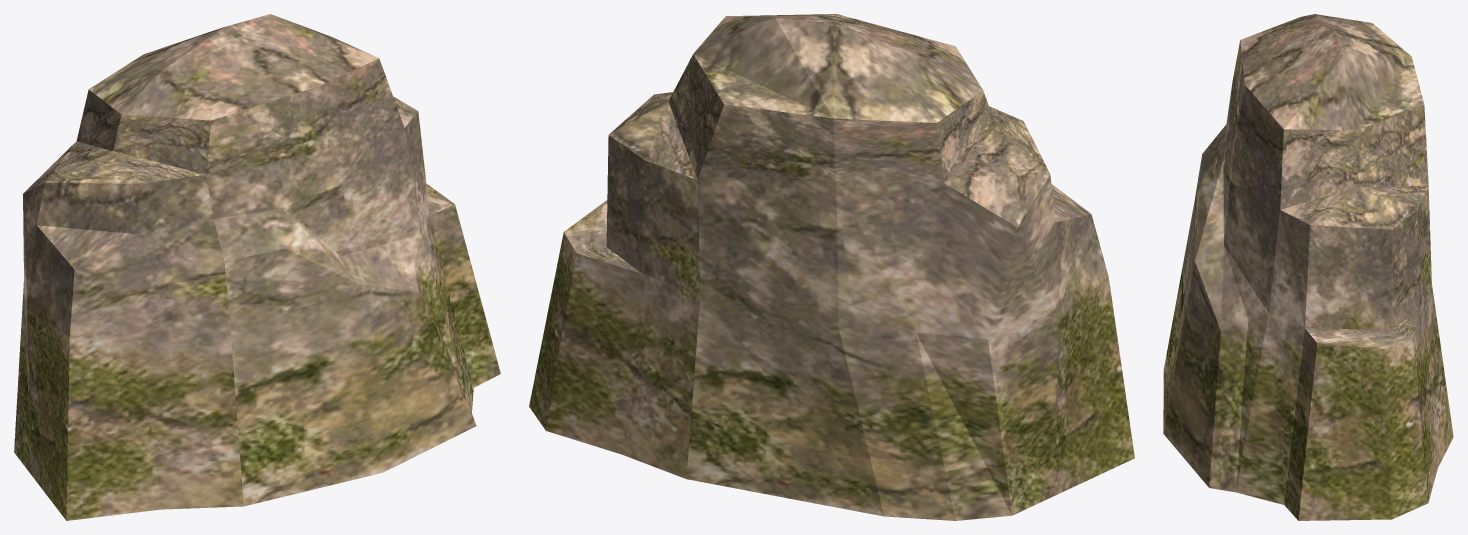
Rendered from town_mountain_a__11___1_25.fbx.
The picture shows the model from 3 angles, left to right: view 1: azimuth 30°, elevation 25°; view 2: azimuth 150°, elevation 25°; view 3: azimuth 270°, elevation 25°; orthographic projection. The views are drawn at different scales.
Parts seen in each view (by area): view 1: town_mountain_a__11___1_25; view 2: town_mountain_a__11___1_25; view 3: town_mountain_a__11___1_25.
Boxes of the visible parts, bbox=[...] form: town_mountain_a__11___1_25: bbox=[14, 14, 500, 520]; town_mountain_a__11___1_25: bbox=[529, 14, 1134, 520]; town_mountain_a__11___1_25: bbox=[1163, 14, 1453, 520].
Size of the model in its own units: 25.61 by 20.34 by 14.35.
